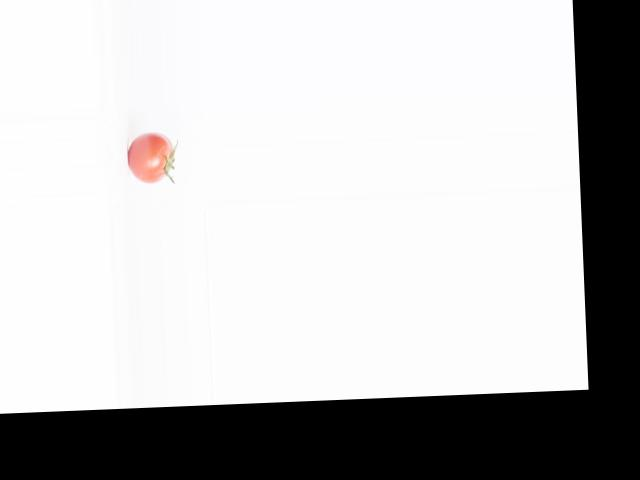tomato: (126, 130, 174, 183)
